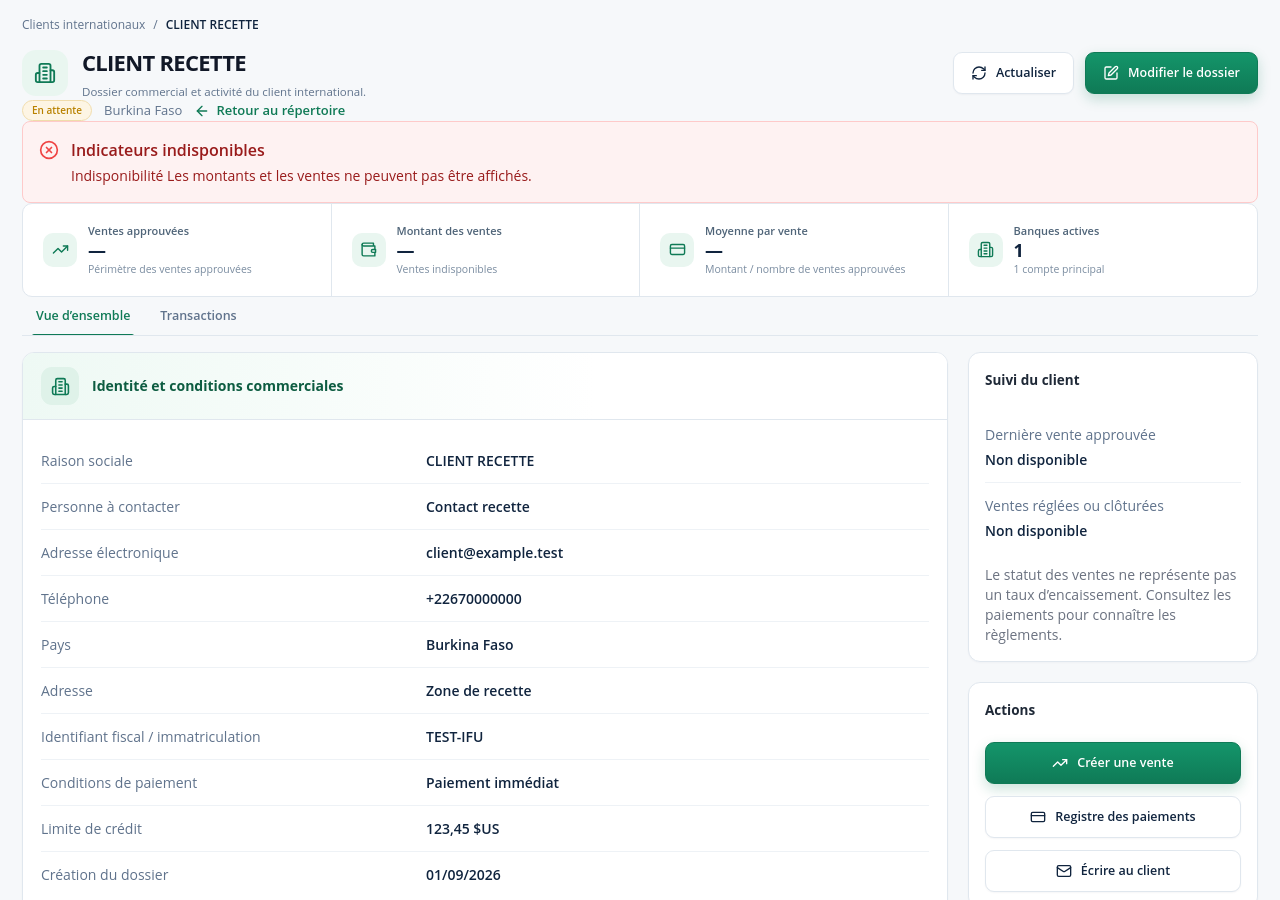
Test case: Vues Clients — composants sans serveur réel › distingue les ventes indisponibles d’un historique vide
This screenshot has width=1280, height=900.
Check: the text "Indicateurs indisponibles" is shown, box 71,139 -> 265,161
Click the tab "Transactions".
click(198, 316)  # box 146,297 -> 251,335
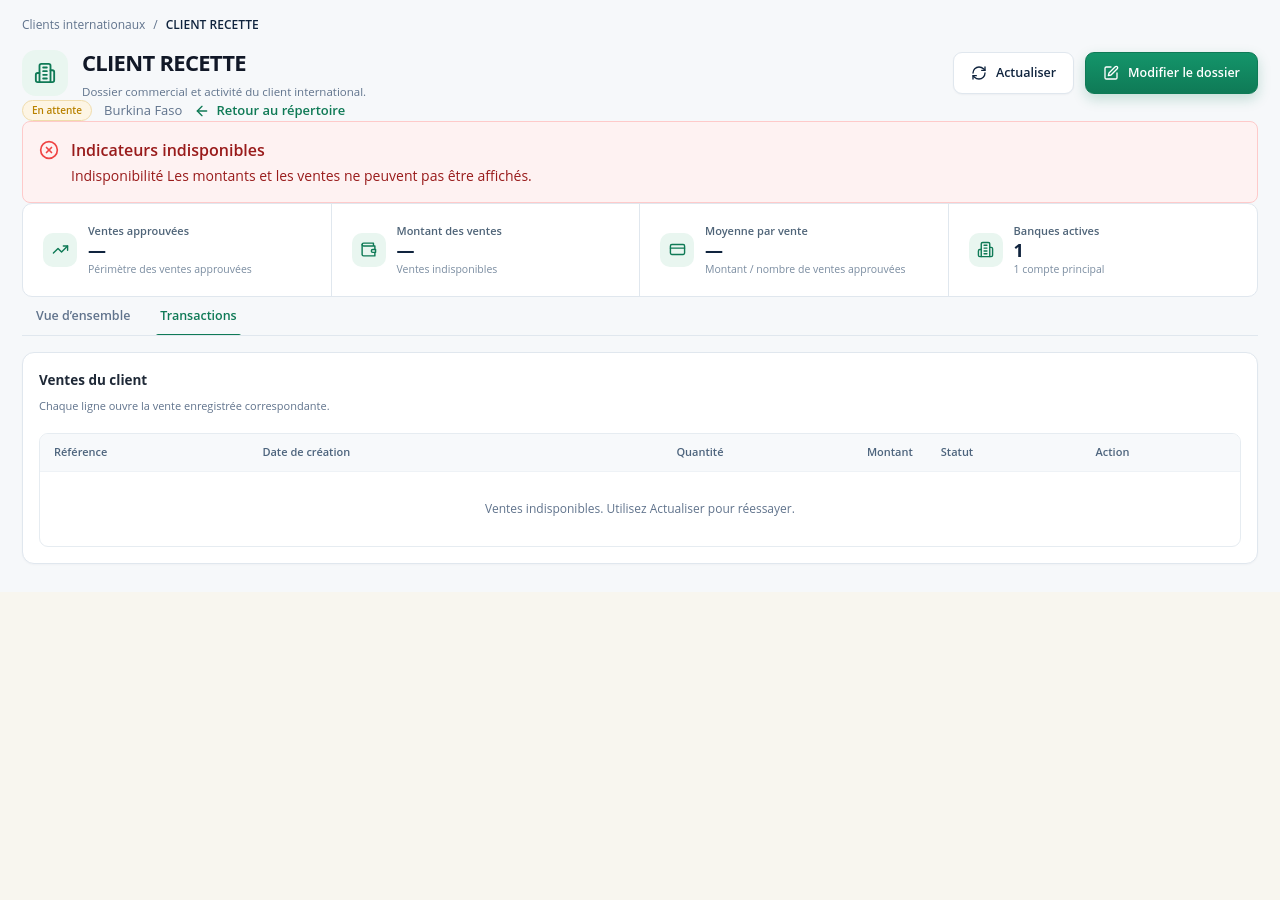
Check: the text "Ventes indisponibles. Utilisez Actualiser pour réessayer." is shown, box 40,472 -> 1240,546
